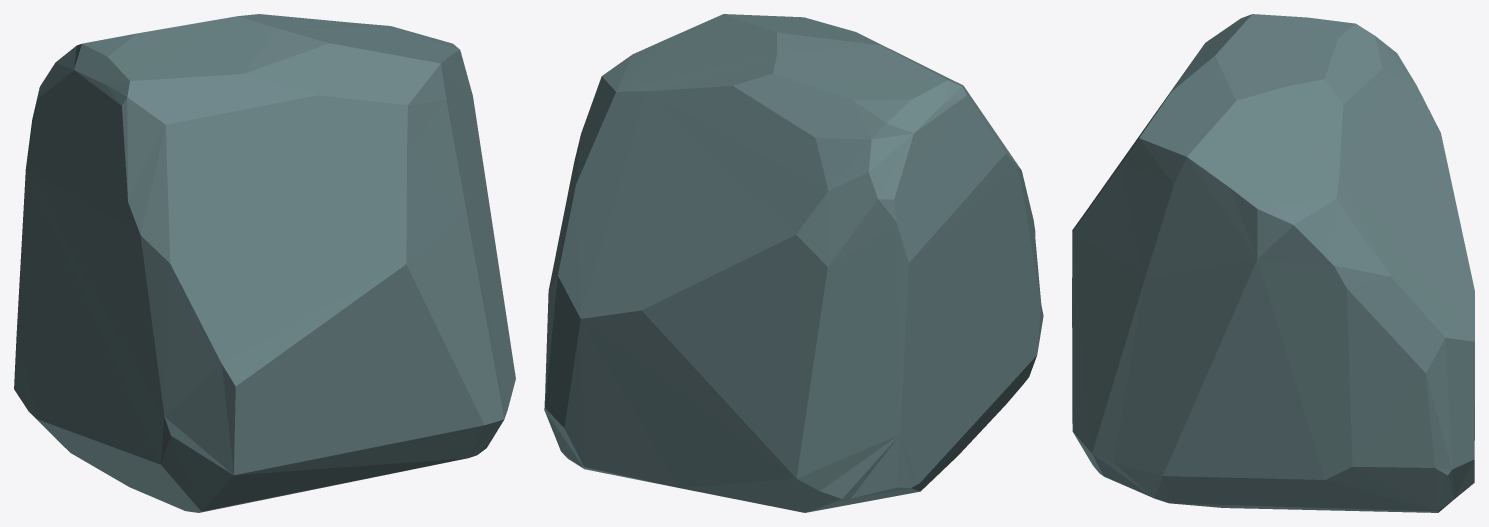
Rendered from SM_LP_RefinedMetal_3.fbx.
3 renders of one model, left to right at view 1: azimuth 30°, elevation 25°; view 2: azimuth 150°, elevation 25°; view 3: azimuth 270°, elevation 25°, orthographic. The views are drawn at different scales.
Visible parts, largest first — view 1: SM_LP_RefinedMetal_3; view 2: SM_LP_RefinedMetal_3; view 3: SM_LP_RefinedMetal_3.
Boxes of the visible parts, <box> form: SM_LP_RefinedMetal_3: <box>14,14,515,512</box>; SM_LP_RefinedMetal_3: <box>544,14,1043,512</box>; SM_LP_RefinedMetal_3: <box>1072,14,1474,512</box>.
Bounding box in the file's own units: 0.2593 × 0.2631 × 0.2632.
